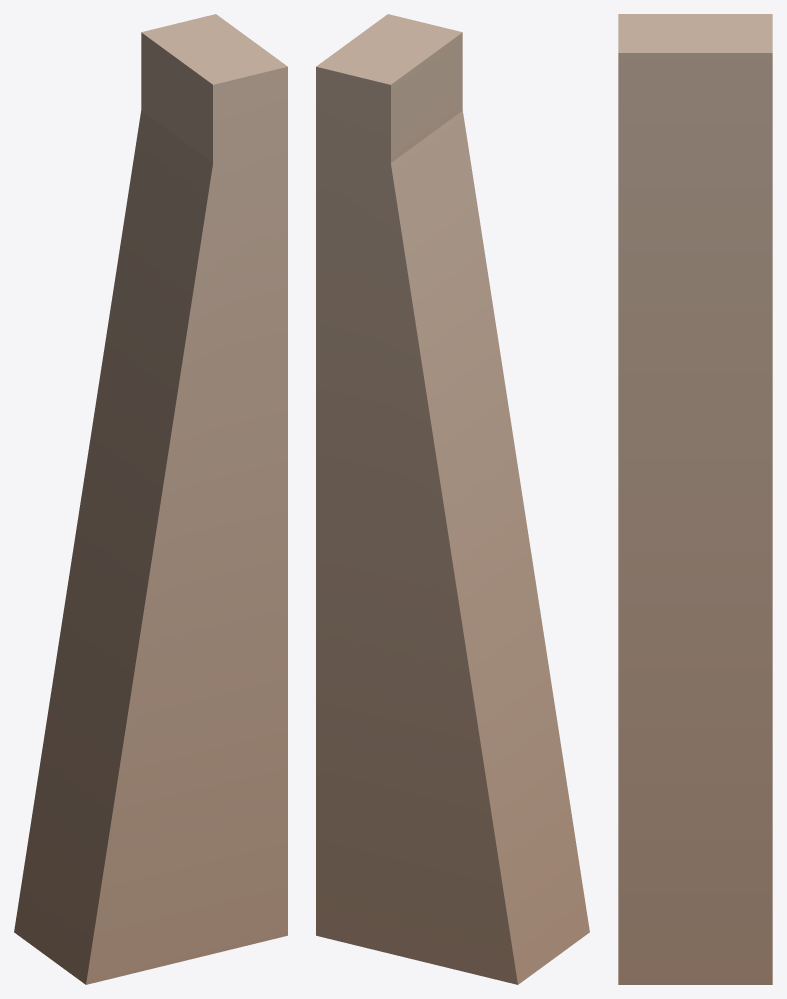
The model's file is wall-stud.glb.
3 renders of one model, left to right at view 1: azimuth 30°, elevation 25°; view 2: azimuth 150°, elevation 25°; view 3: azimuth 270°, elevation 25°, orthographic. The views are drawn at different scales.
Parts seen in each view (by area): view 1: wall-stud; view 2: wall-stud; view 3: wall-stud.
Part boxes in pixels (x1,y1,x2,y2): wall-stud: (14, 14, 287, 984); wall-stud: (316, 14, 589, 984); wall-stud: (618, 14, 772, 984).
Size of the model in its own units: 0.27 by 1.11 by 0.1666.
